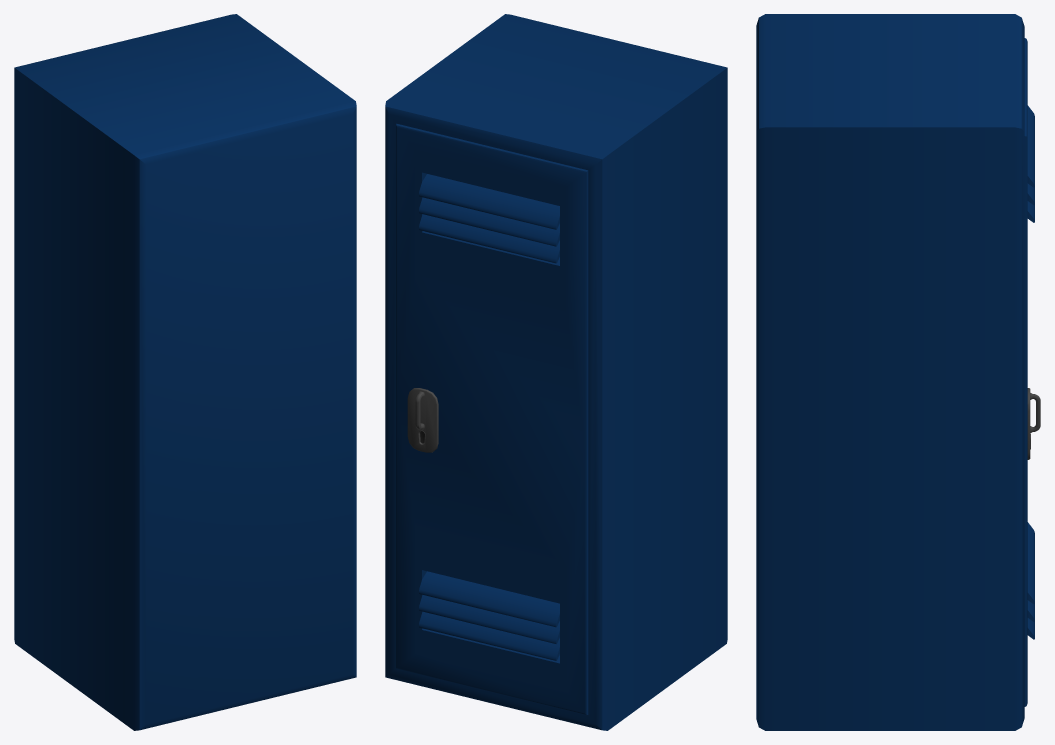
The model's file is Locker_with_board 1.fbx.
3 renders of one model, left to right at view 1: azimuth 30°, elevation 25°; view 2: azimuth 150°, elevation 25°; view 3: azimuth 270°, elevation 25°, orthographic. The views are drawn at different scales.
Visible parts, largest first — view 1: locker; view 2: locker; view 3: locker.
Boxes of the visible parts, bbox=[...] form: locker: bbox=[14, 14, 356, 730]; locker: bbox=[385, 14, 727, 730]; locker: bbox=[756, 14, 1040, 730].
Bounding box in the file's own units: 29.57 × 73.4 × 31.37.
1 material, 1 textured.
